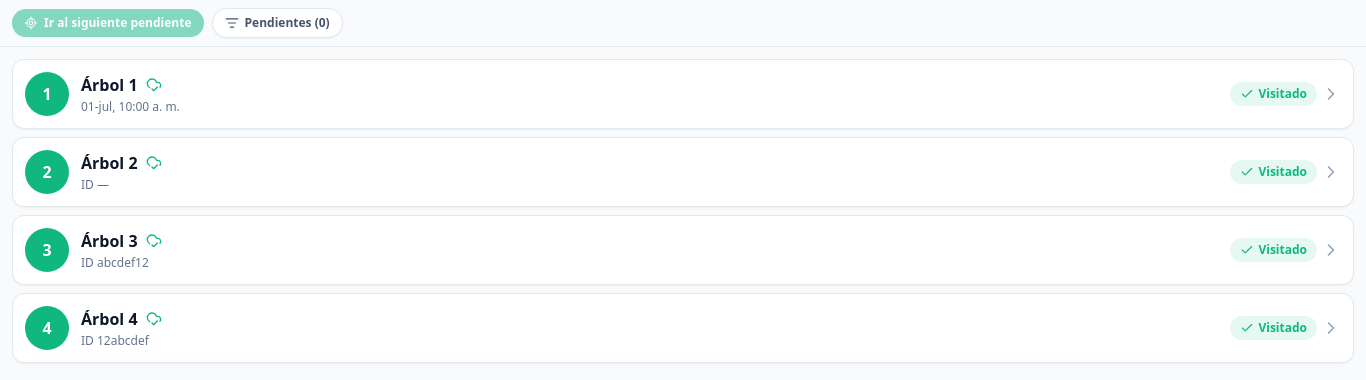
Test: StopList › disables the next-pending button and shows an empty state when everything is resolved
Expected: the button "Ir al siguiente pendiente" is disabled, [12,9,204,37]
Click the button "Pendientes (0)" at (277, 23), box [212,8,343,38]
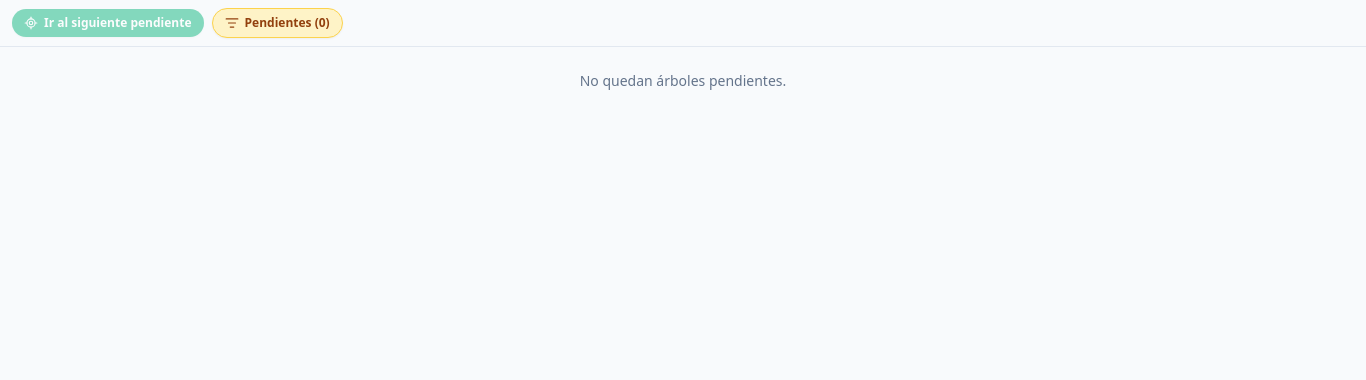
Expected: the text "No quedan árboles pendientes." is shown, [580,71,786,90]
